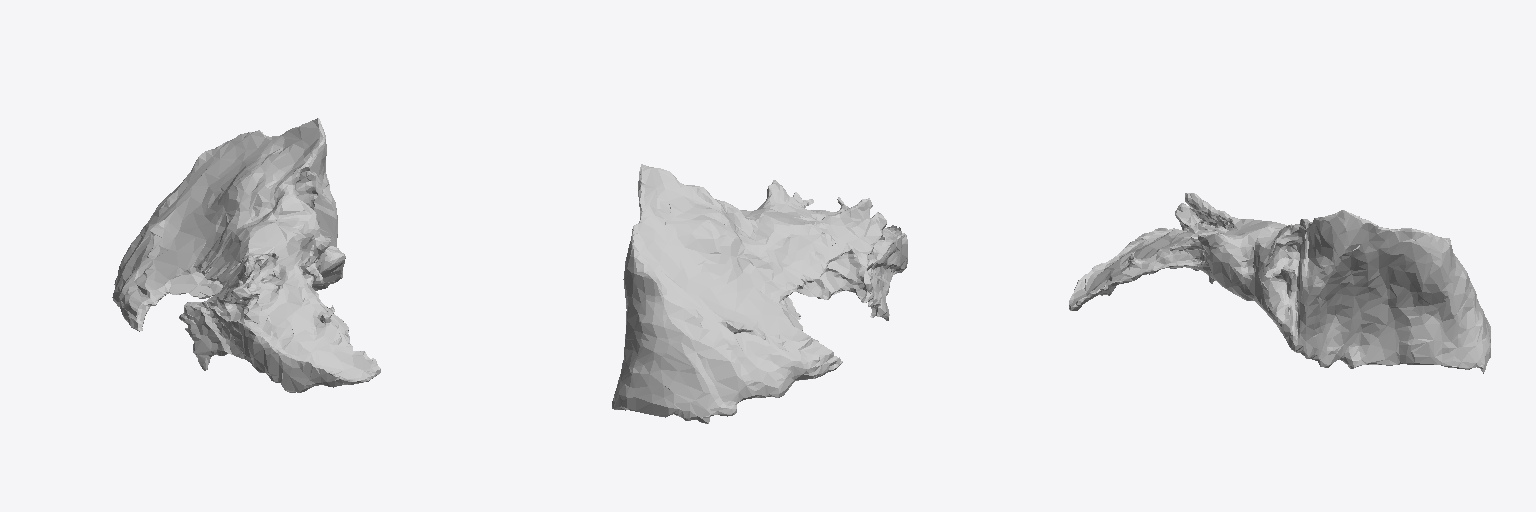
3 views of the same model, side by side, from view 1: azimuth 30°, elevation 25°; view 2: azimuth 150°, elevation 25°; view 3: azimuth 270°, elevation 25° (orthographic).
Visible parts, largest first — view 1: Polygonal_Model_1_Triangles_0; view 2: Polygonal_Model_1_Triangles_0; view 3: Polygonal_Model_1_Triangles_0.
Boxes of the visible parts, box(x1,y1,x2,y2) form: Polygonal_Model_1_Triangles_0: box(112, 118, 380, 392); Polygonal_Model_1_Triangles_0: box(612, 164, 907, 423); Polygonal_Model_1_Triangles_0: box(1069, 193, 1490, 373).
Bounding box in the file's own units: 4.06 × 3.67 × 7.65.